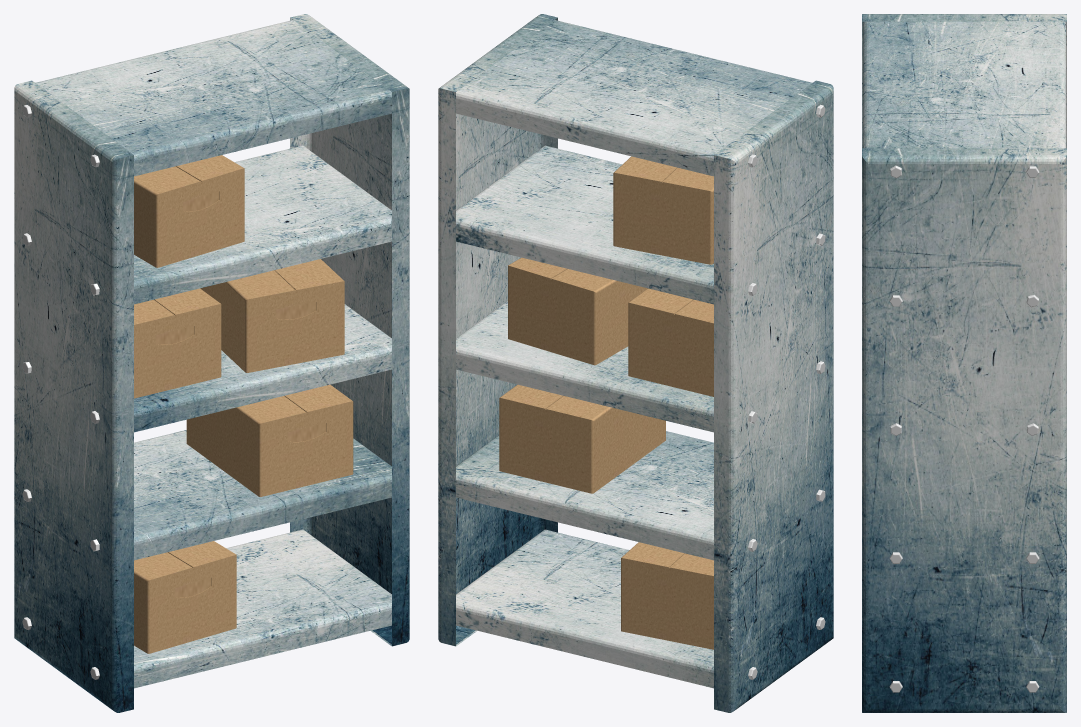
File: metal-storage-cabinet.glb
3 renders of one model, left to right at view 1: azimuth 30°, elevation 25°; view 2: azimuth 150°, elevation 25°; view 3: azimuth 270°, elevation 25°, orthographic.
Visible parts, largest first — view 1: Material2 (×9), Material3 (×5); view 2: Material2 (×9), Material3 (×5); view 3: Material2 (×3).
Part boxes in pixels (<box>): Material2 (×9): <box>14,14,409,712</box>; Material3 (×5): <box>134,155,351,580</box>; Material2 (×9): <box>438,14,833,712</box>; Material3 (×5): <box>500,156,713,576</box>; Material2 (×3): <box>862,14,1066,712</box>.
Bounding box in the file's own units: 173 × 300 × 100.
5 materials, 2 textured.
